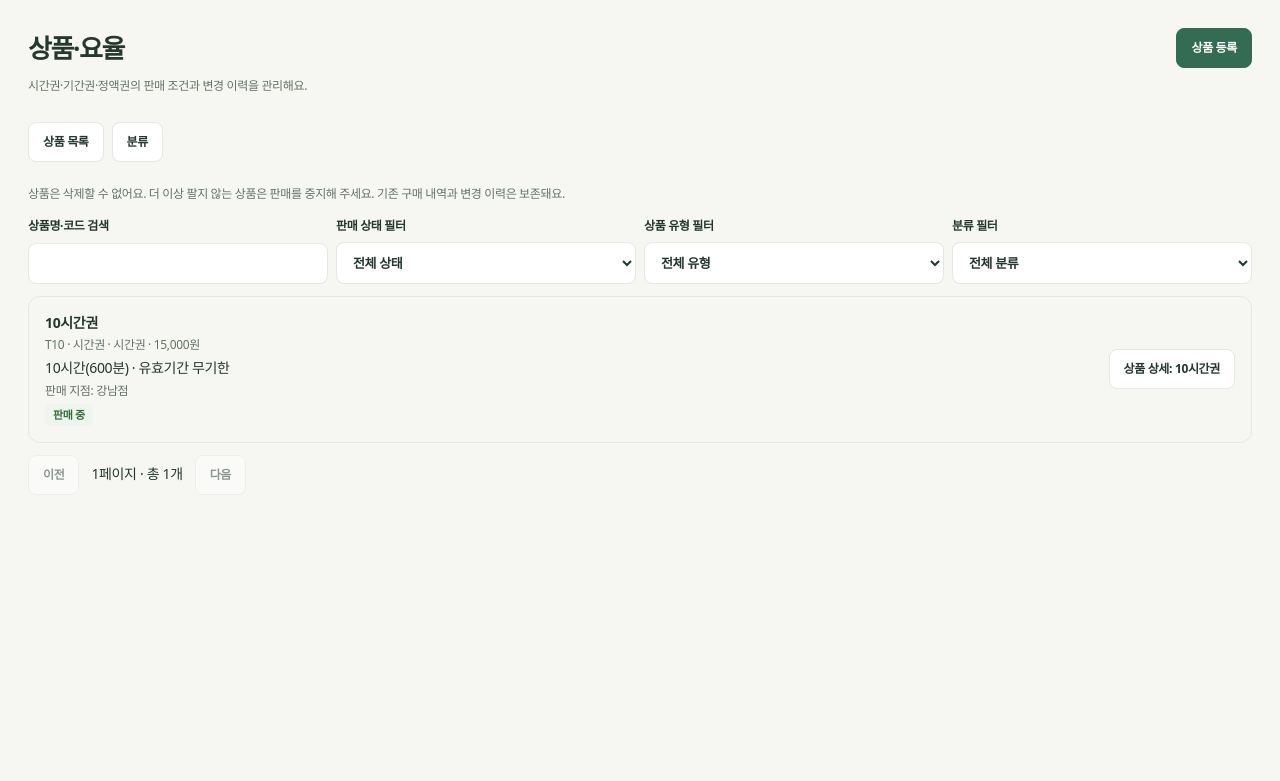
offers the other kinds' unit fields only after the kind changes
This screenshot has width=1280, height=781.
Click the button "상품 등록": coordinates (1214, 48) [1176,28,1252,68]
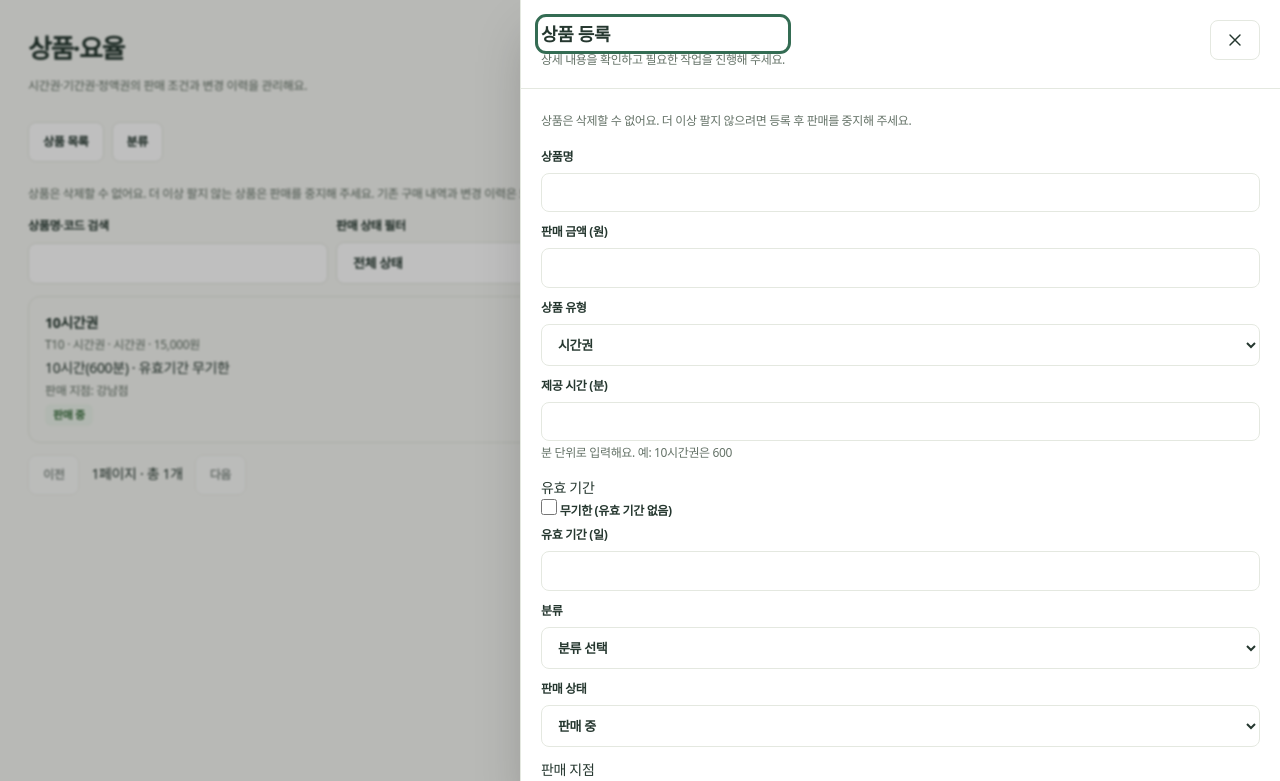
Check: the field labelled "이용 기간 (일)" is not shown
Select "기간권" in the dropdown labelled "상품 유형": coordinates (900, 345) [541,324,1260,366]
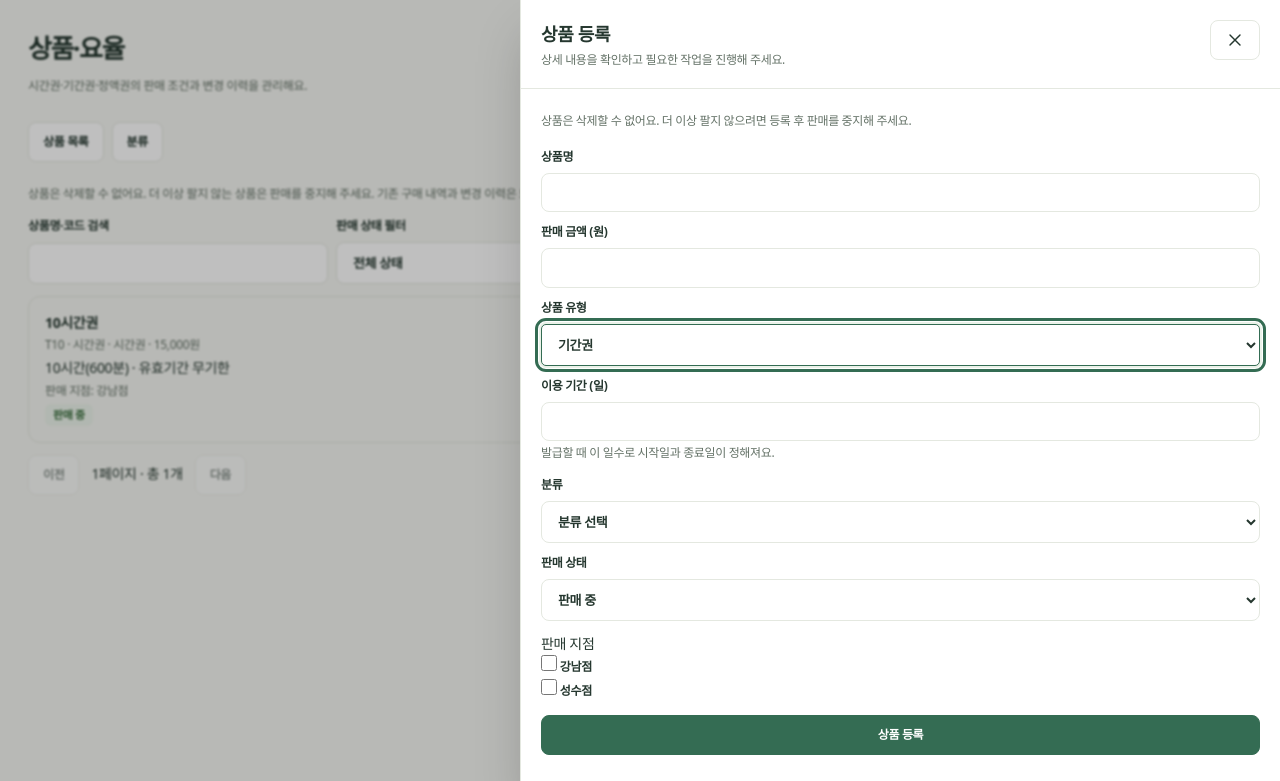
Check: the field labelled "이용 기간 (일)" is shown, box [541,402,1260,441]
Check: the label labelled "제공 시간 (분)" is gone
Select "정액권" in the dropdown labelled "상품 유형": coordinates (900, 345) [541,324,1260,366]
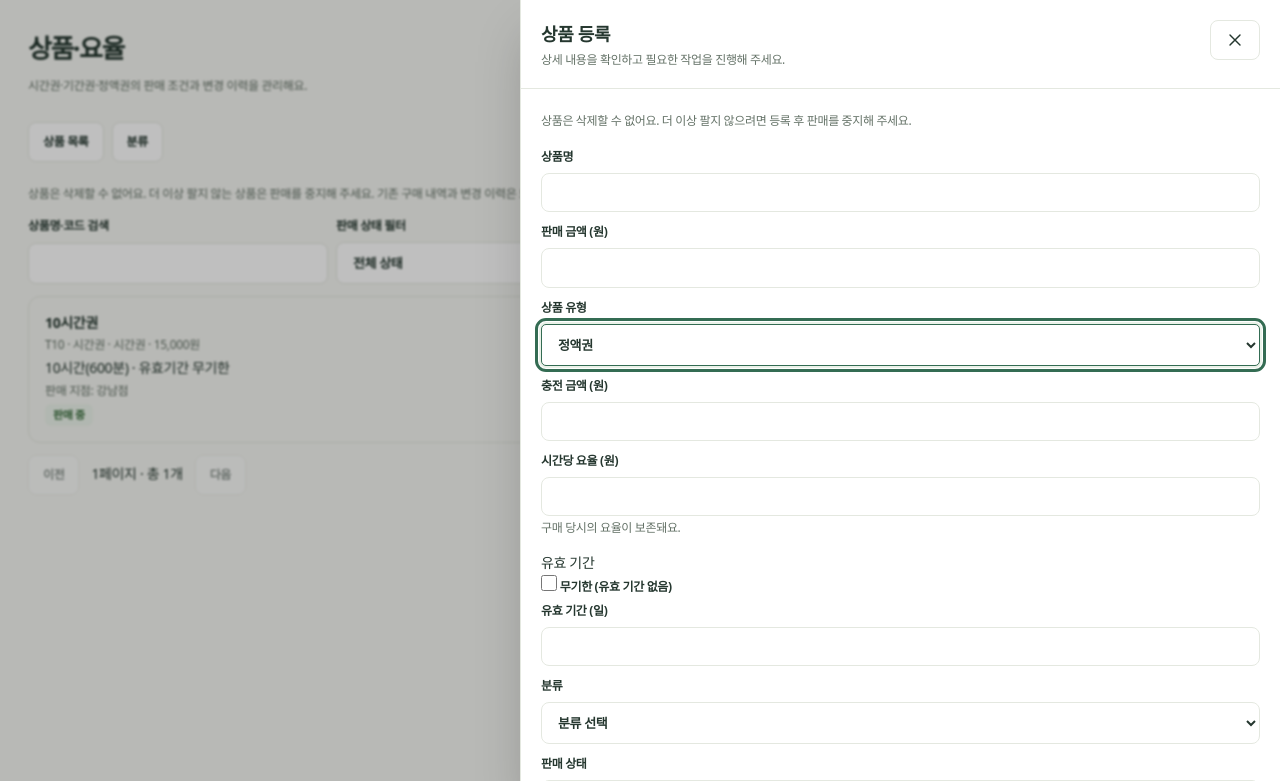
Check: the field labelled "충전 금액 (원)" is shown, box [541,402,1260,441]
Check: the field labelled "시간당 요율 (원)" is shown, box [541,477,1260,516]
